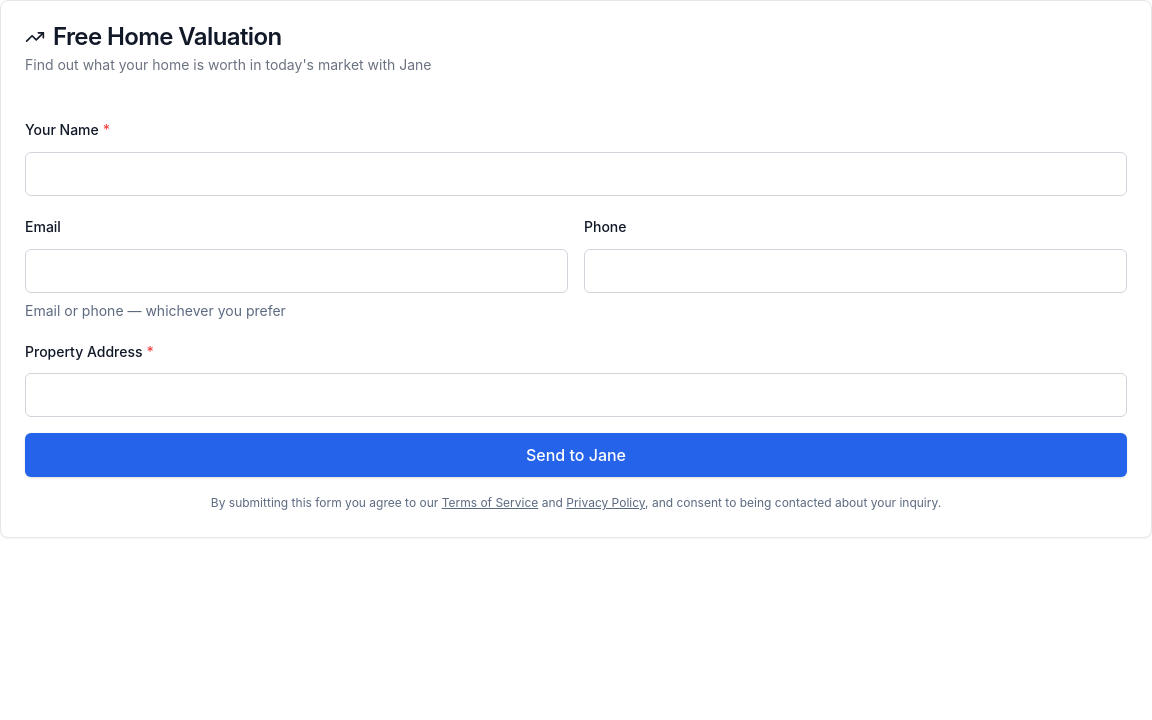
two-step lead forms › asks for an email or a phone, and for the address on a valuation
The image size is (1152, 720).
In the field labelled "Your Name*": [576, 174] box top-left (25, 152), bottom-right (1127, 196), type "Dana Rivers"
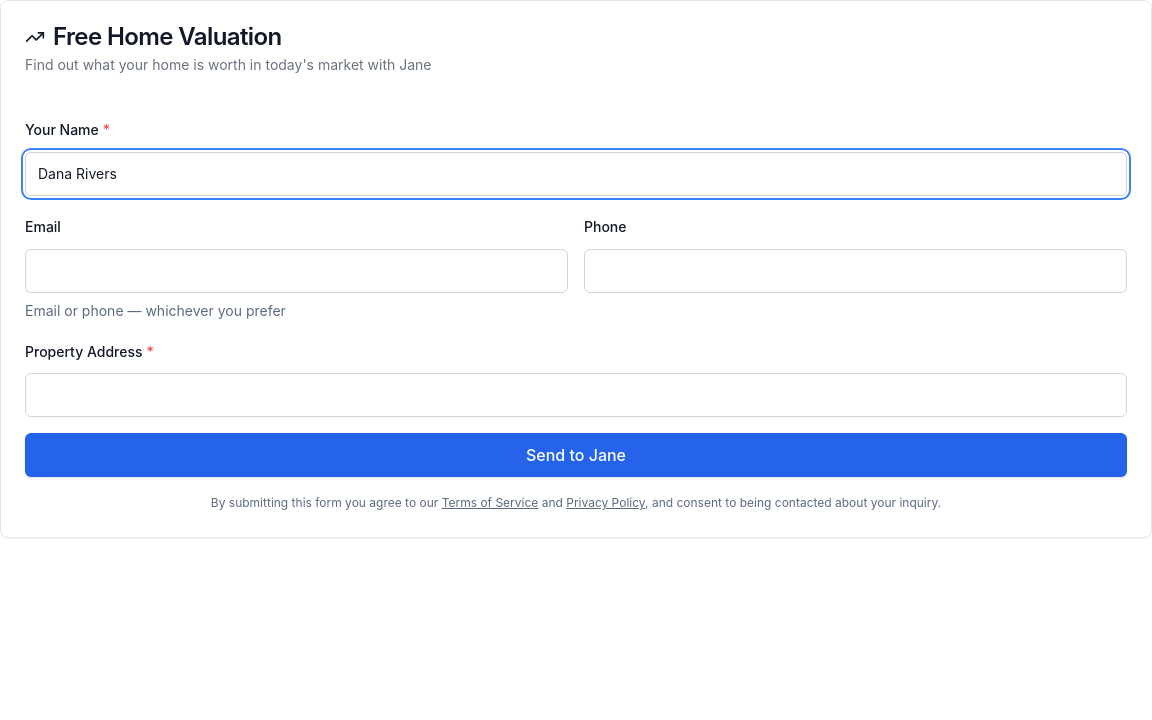
Click the button "Send to Jane": [576, 455] box top-left (25, 433), bottom-right (1127, 477)
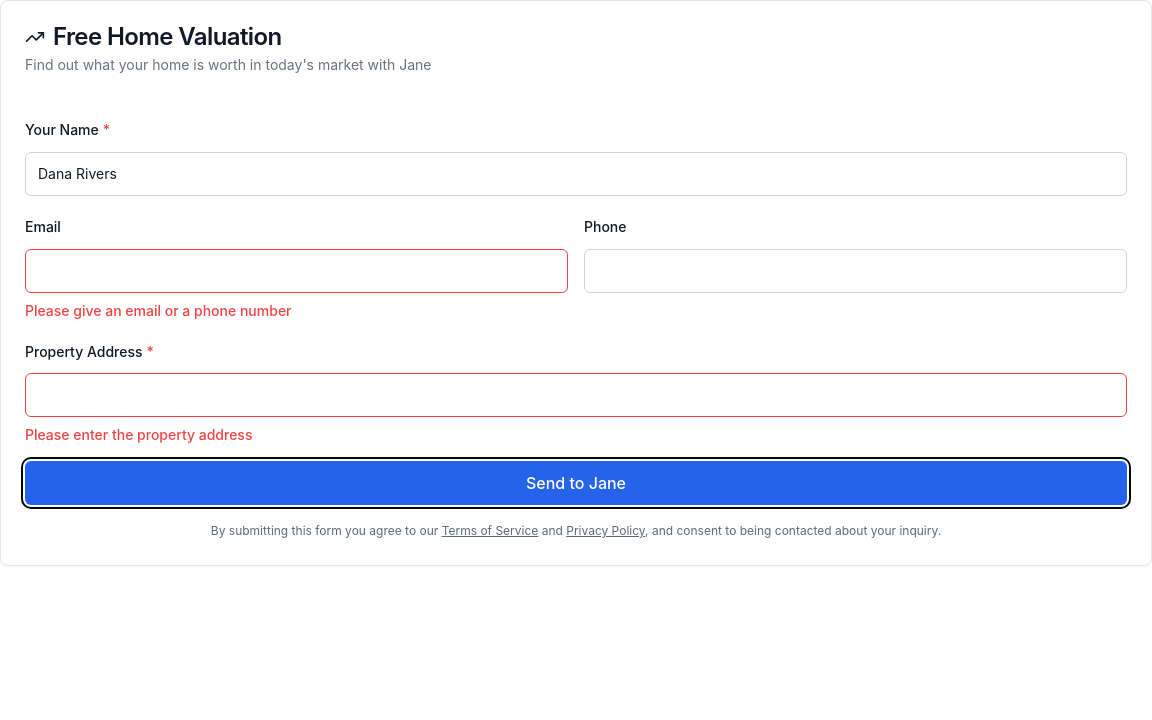
Check: the text "Please give an email or a phone number" is shown, box top-left (25, 302), bottom-right (292, 319)
Check: the text "Please enter the property address" is shown, box top-left (25, 426), bottom-right (252, 443)
